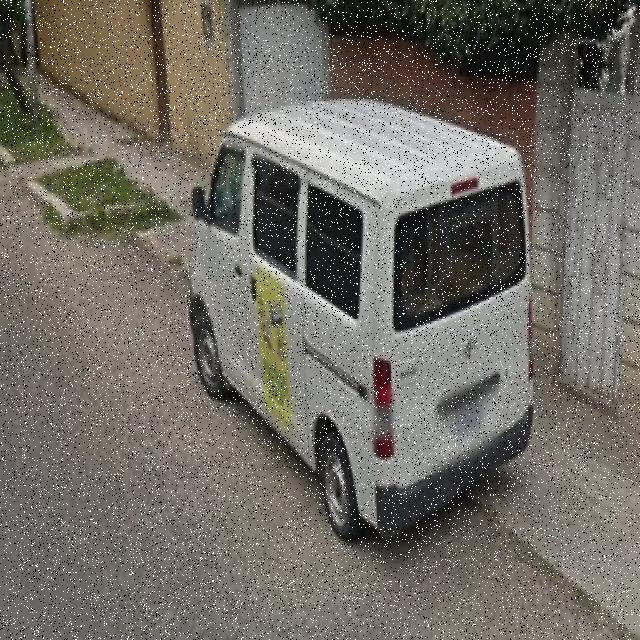cars: (181, 110, 539, 560)
